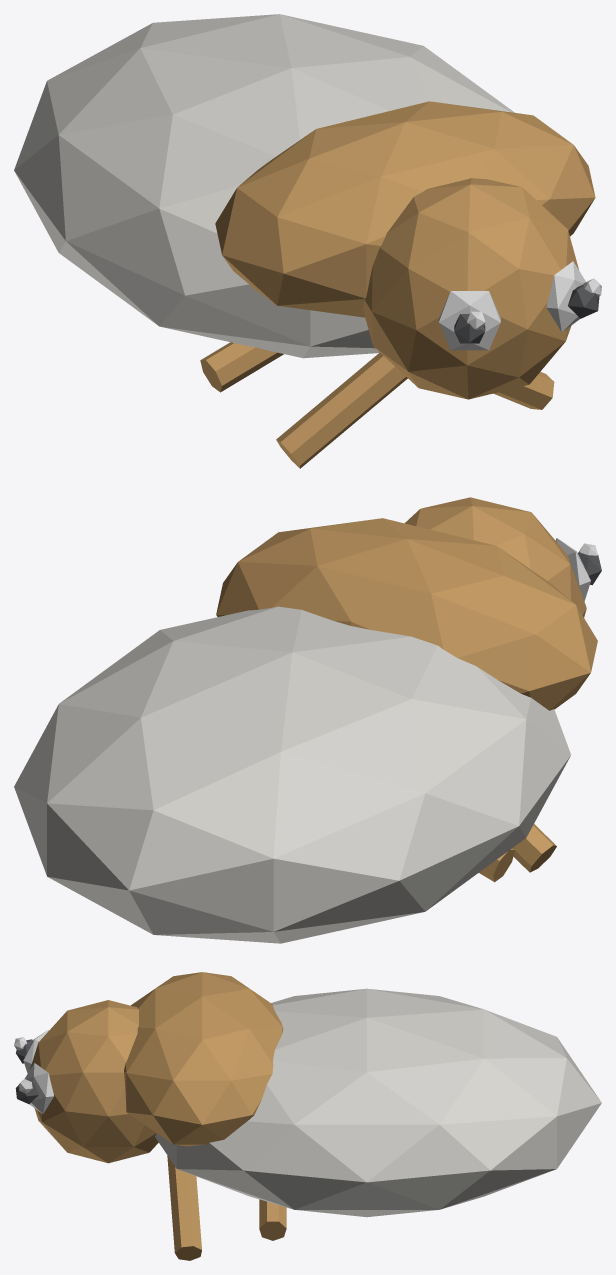
Rendered from corythucha-juglandis.glb.
The picture shows the model from 3 angles, top to bottom: view 1: azimuth 30°, elevation 25°; view 2: azimuth 150°, elevation 25°; view 3: azimuth 270°, elevation 25°; orthographic projection. The views are drawn at different scales.
Visible parts, largest first — view 1: body, pronotum, head, leg0-l, f-eye-r, leg1-l, f-eye-l, leg0-r, f-pupil-l, f-pupil-r; view 2: body, pronotum, head, leg0-l, f-eye-r; view 3: body, pronotum, head, leg0-r, leg1-r, f-eye-l.
Part boxes in pixels (bbox=[...]): body: bbox=[14, 14, 514, 358]; pronotum: bbox=[215, 101, 595, 317]; head: bbox=[363, 178, 579, 399]; leg0-l: bbox=[276, 352, 407, 468]; f-eye-r: bbox=[439, 291, 500, 350]; leg1-l: bbox=[200, 342, 283, 392]; f-eye-l: bbox=[546, 261, 585, 332]; leg0-r: bbox=[493, 372, 554, 409]; f-pupil-l: bbox=[568, 284, 599, 318]; f-pupil-r: bbox=[454, 314, 485, 343]; body: bbox=[14, 606, 570, 943]; pronotum: bbox=[216, 518, 597, 710]; head: bbox=[405, 497, 586, 617]; leg0-l: bbox=[512, 824, 556, 872]; f-eye-r: bbox=[555, 538, 590, 601]; body: bbox=[155, 988, 601, 1217]; pronotum: bbox=[124, 972, 283, 1146]; head: bbox=[30, 1000, 158, 1163]; leg0-r: bbox=[167, 1155, 201, 1260]; leg1-r: bbox=[259, 1199, 286, 1240]; f-eye-l: bbox=[24, 1063, 53, 1113].
Size of the model in its own units: 0.32 by 0.2096 by 0.5004.
